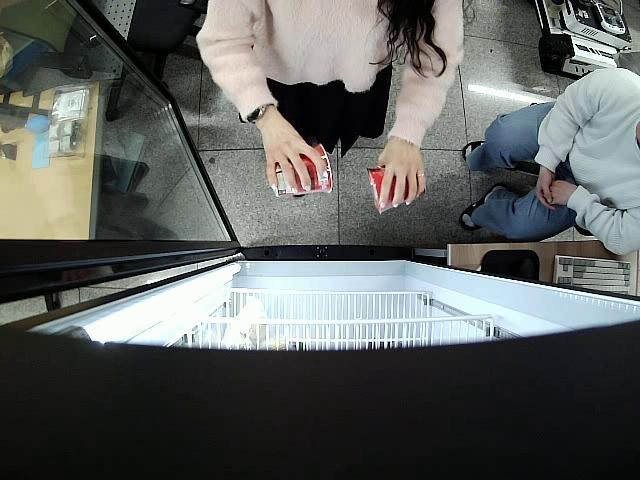00_hand: (262, 114, 328, 196), (377, 141, 426, 210)
02_shinRamen_S: (267, 142, 333, 201), (367, 167, 422, 214)
